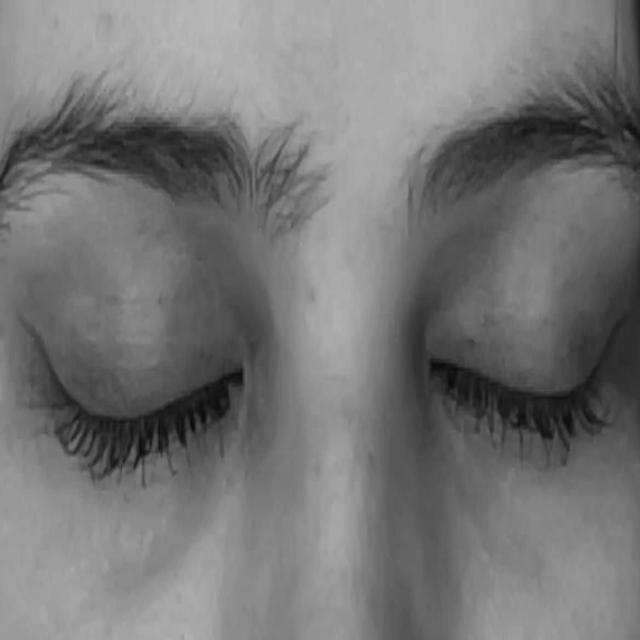real: (16, 200, 632, 510)
